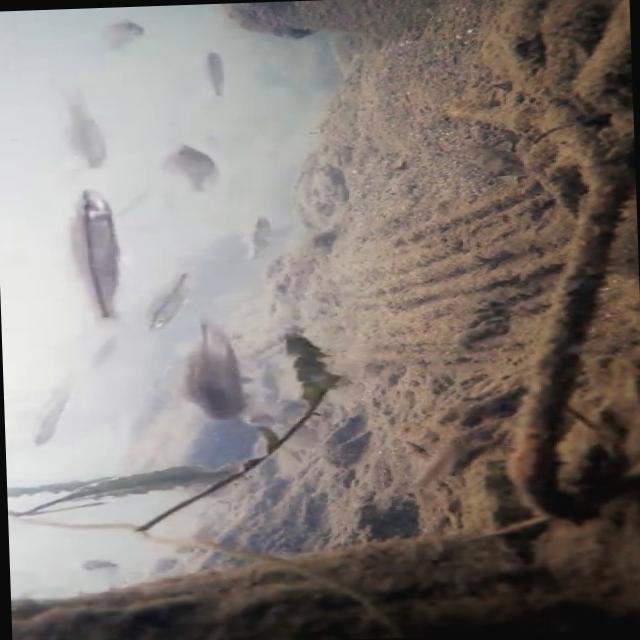Cakil Baligi: (59, 188, 124, 324)
